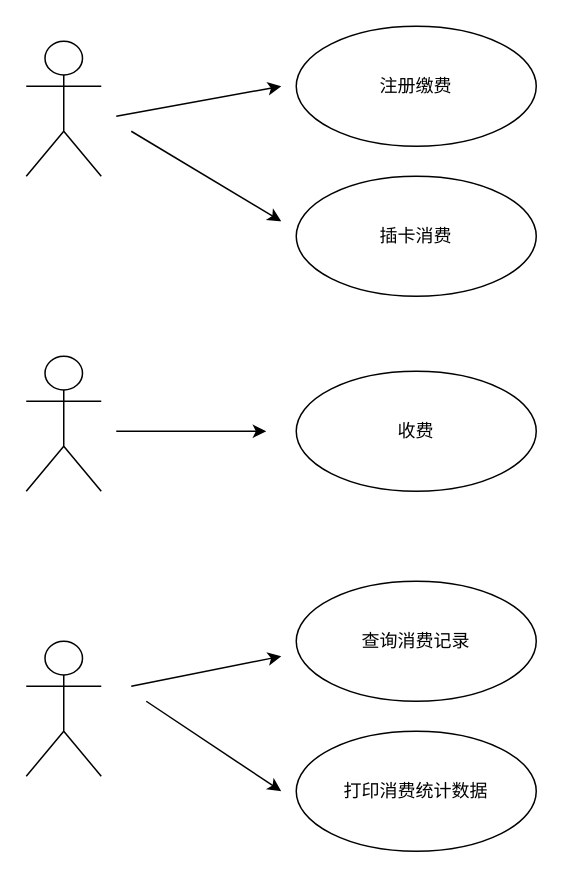
Some shapes in this 563 by 878 pixel diagram are drawn without their labels. The centre of each missing label's shape, as x and y in pixels:
服务员: the point at 63,423
消费者: the point at 63,108
管理员: the point at 63,708
